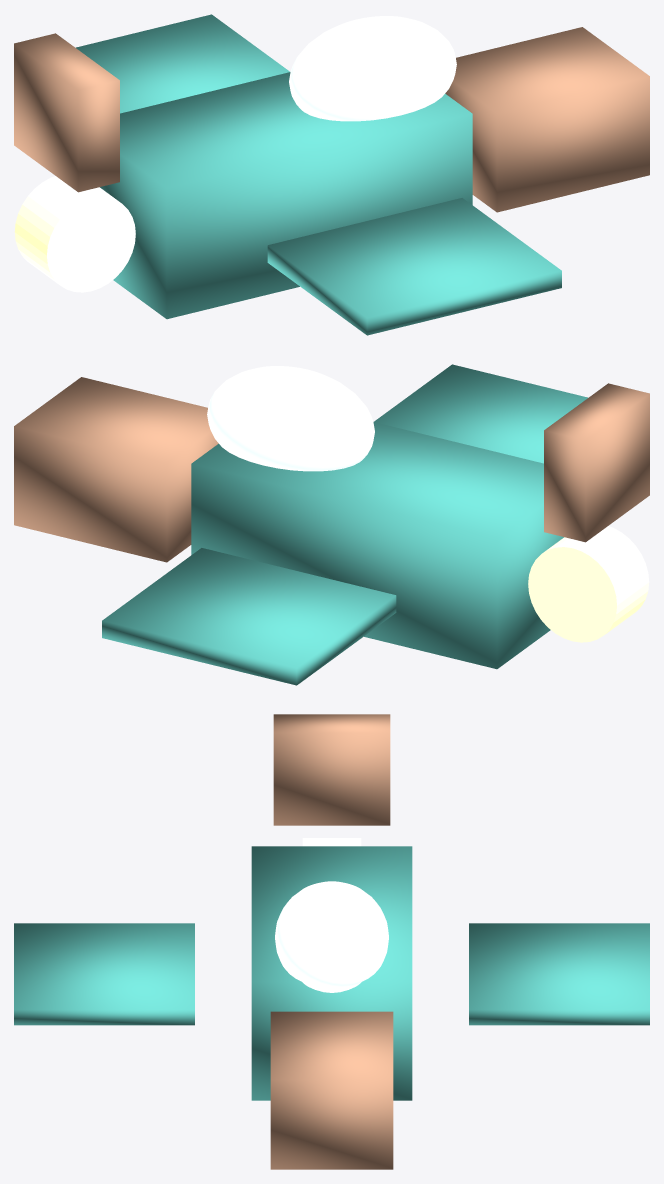
Rendered from ship.glb.
3 renders of one model, top to bottom at view 1: azimuth 30°, elevation 25°; view 2: azimuth 150°, elevation 25°; view 3: azimuth 270°, elevation 25°, orthographic. The views are drawn at different scales.
Visible parts, largest first — view 1: Ship; view 2: Ship; view 3: Ship.
Boxes of the visible parts, <box> form: Ship: <box>14,14,649,335</box>; Ship: <box>14,364,649,685</box>; Ship: <box>14,714,649,1169</box>.
Bounding box in the file's own units: 2.11 × 0.82 × 2.18.
